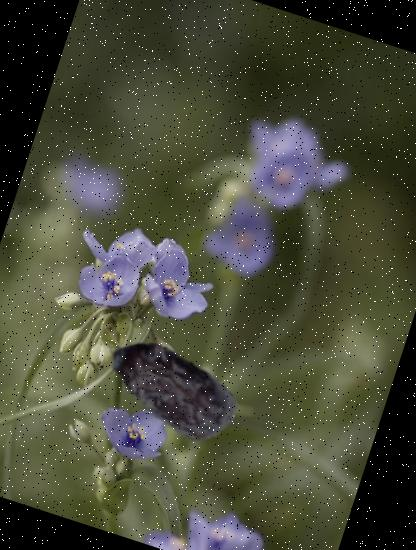Dates: (84, 302, 258, 476)
